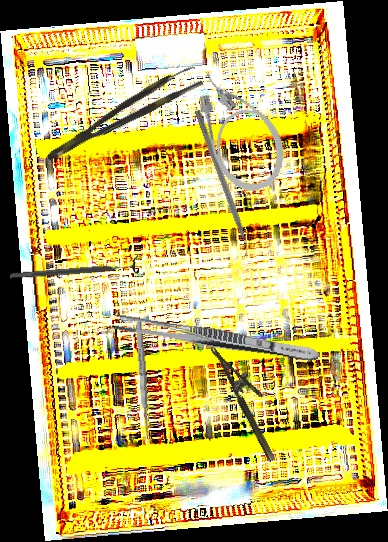Cannula: (185, 56, 296, 201)
Chopper: (186, 109, 254, 262)
Dressing Forceps: (113, 313, 321, 365)
Fixation Ring: (9, 254, 140, 286)
Needle Holder: (210, 337, 291, 463)
Surgical Spoon: (134, 321, 152, 444)
Tissue Forceps: (39, 62, 204, 164)
